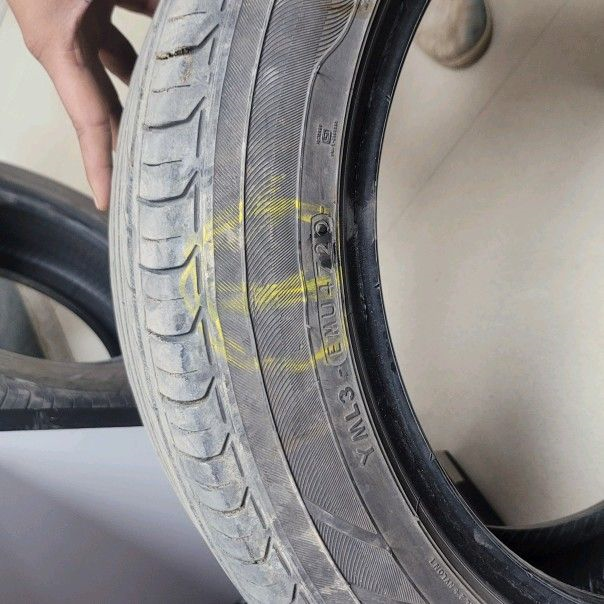CBU: (195, 223, 343, 358)
